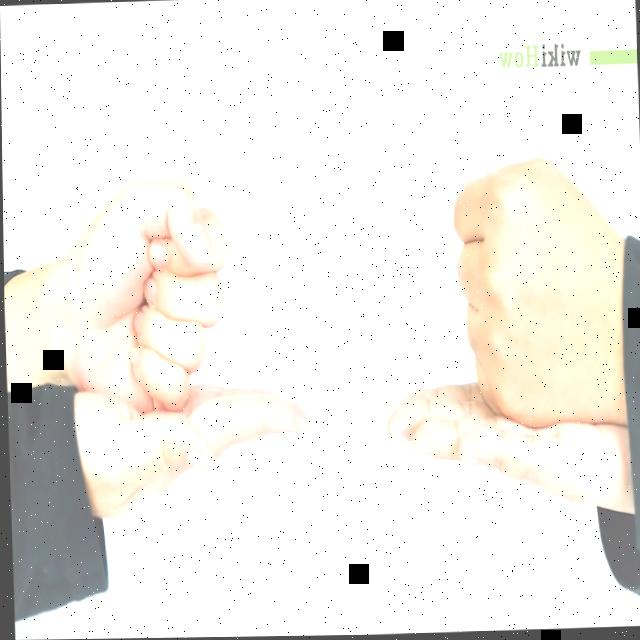Rock: (449, 154, 623, 427), (58, 170, 237, 414)
